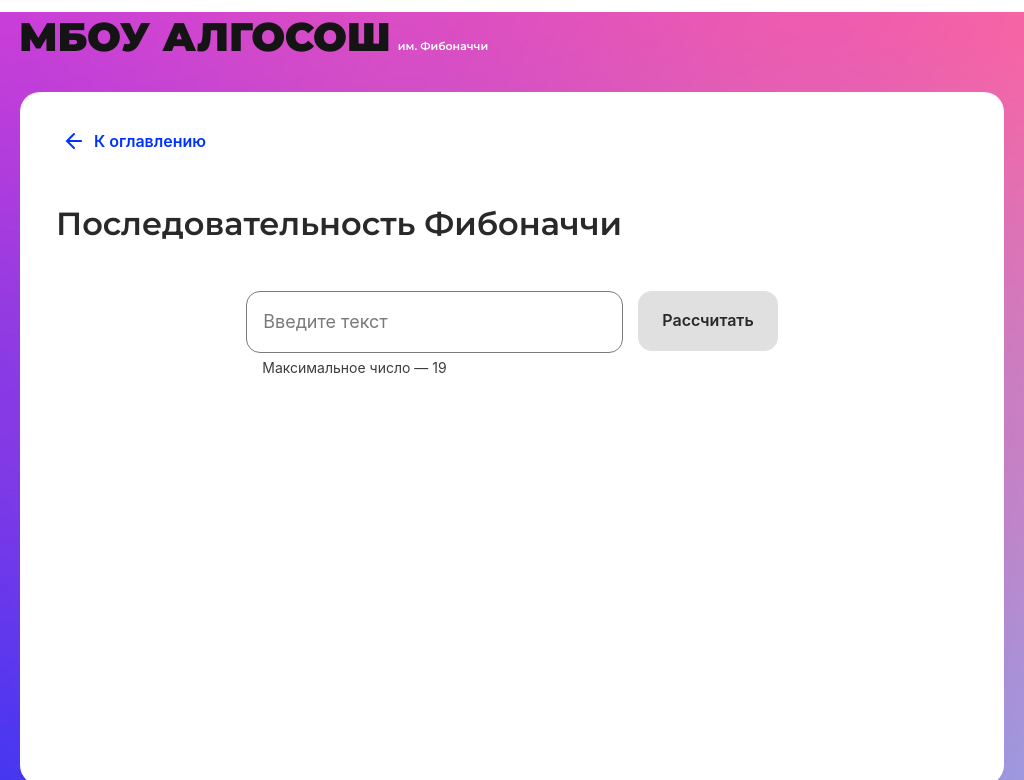
Test: фибоначчи › числа генерируются корректно
Type "5" into the number field with test id "input-fib" at point(435, 322), box x1=246 y1=291 x2=623 y2=353
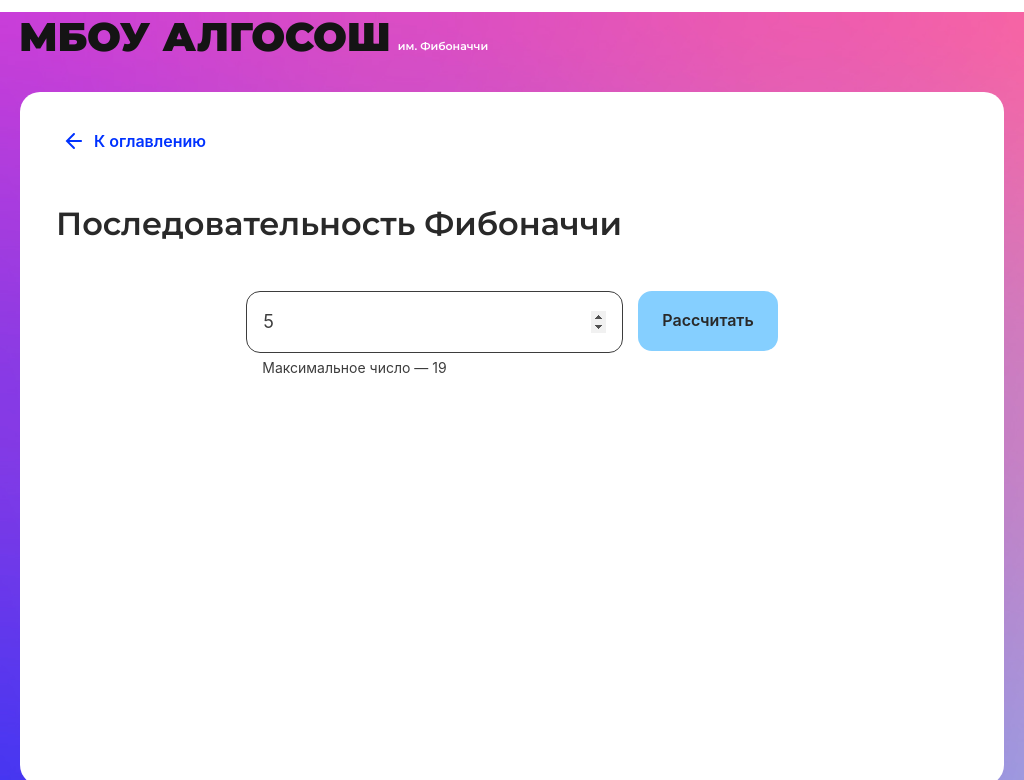
Click the button with test id "button-fib" at point(708, 321), box x1=638 y1=291 x2=777 y2=351
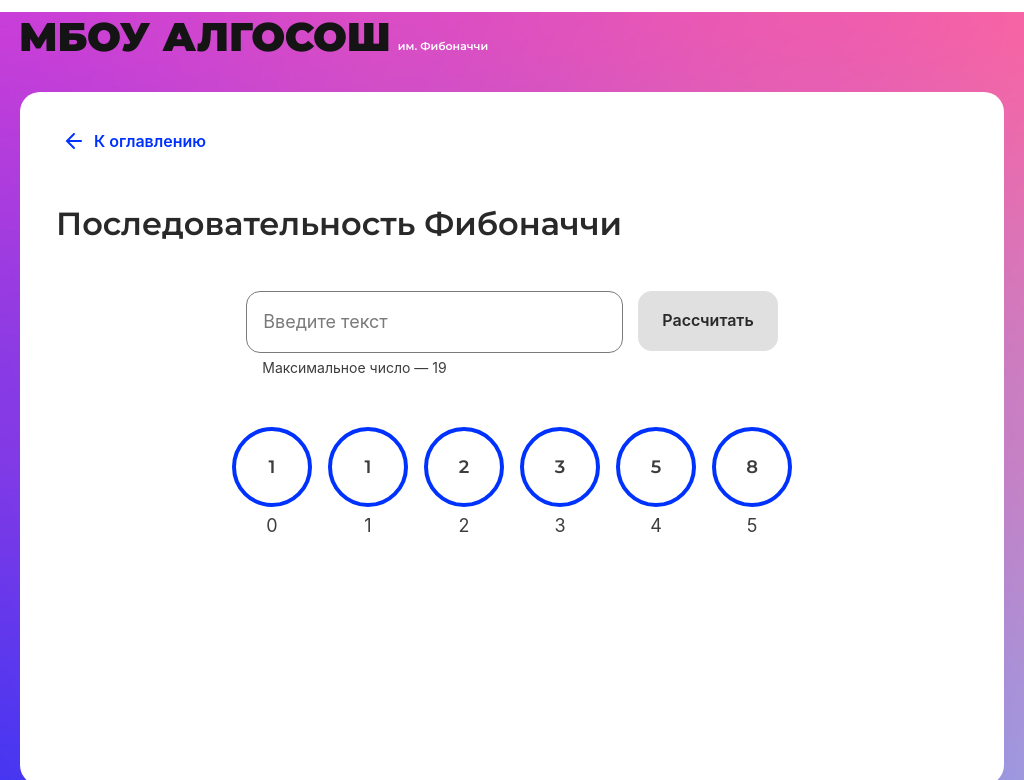
Result: the text with test id "circle" reads "1" at x1=269 y1=456 x2=276 y2=478
Result: the text with test id "circle" reads "2" at x1=459 y1=456 x2=469 y2=478
Result: the text with test id "circle" reads "3" at x1=555 y1=456 x2=565 y2=478
